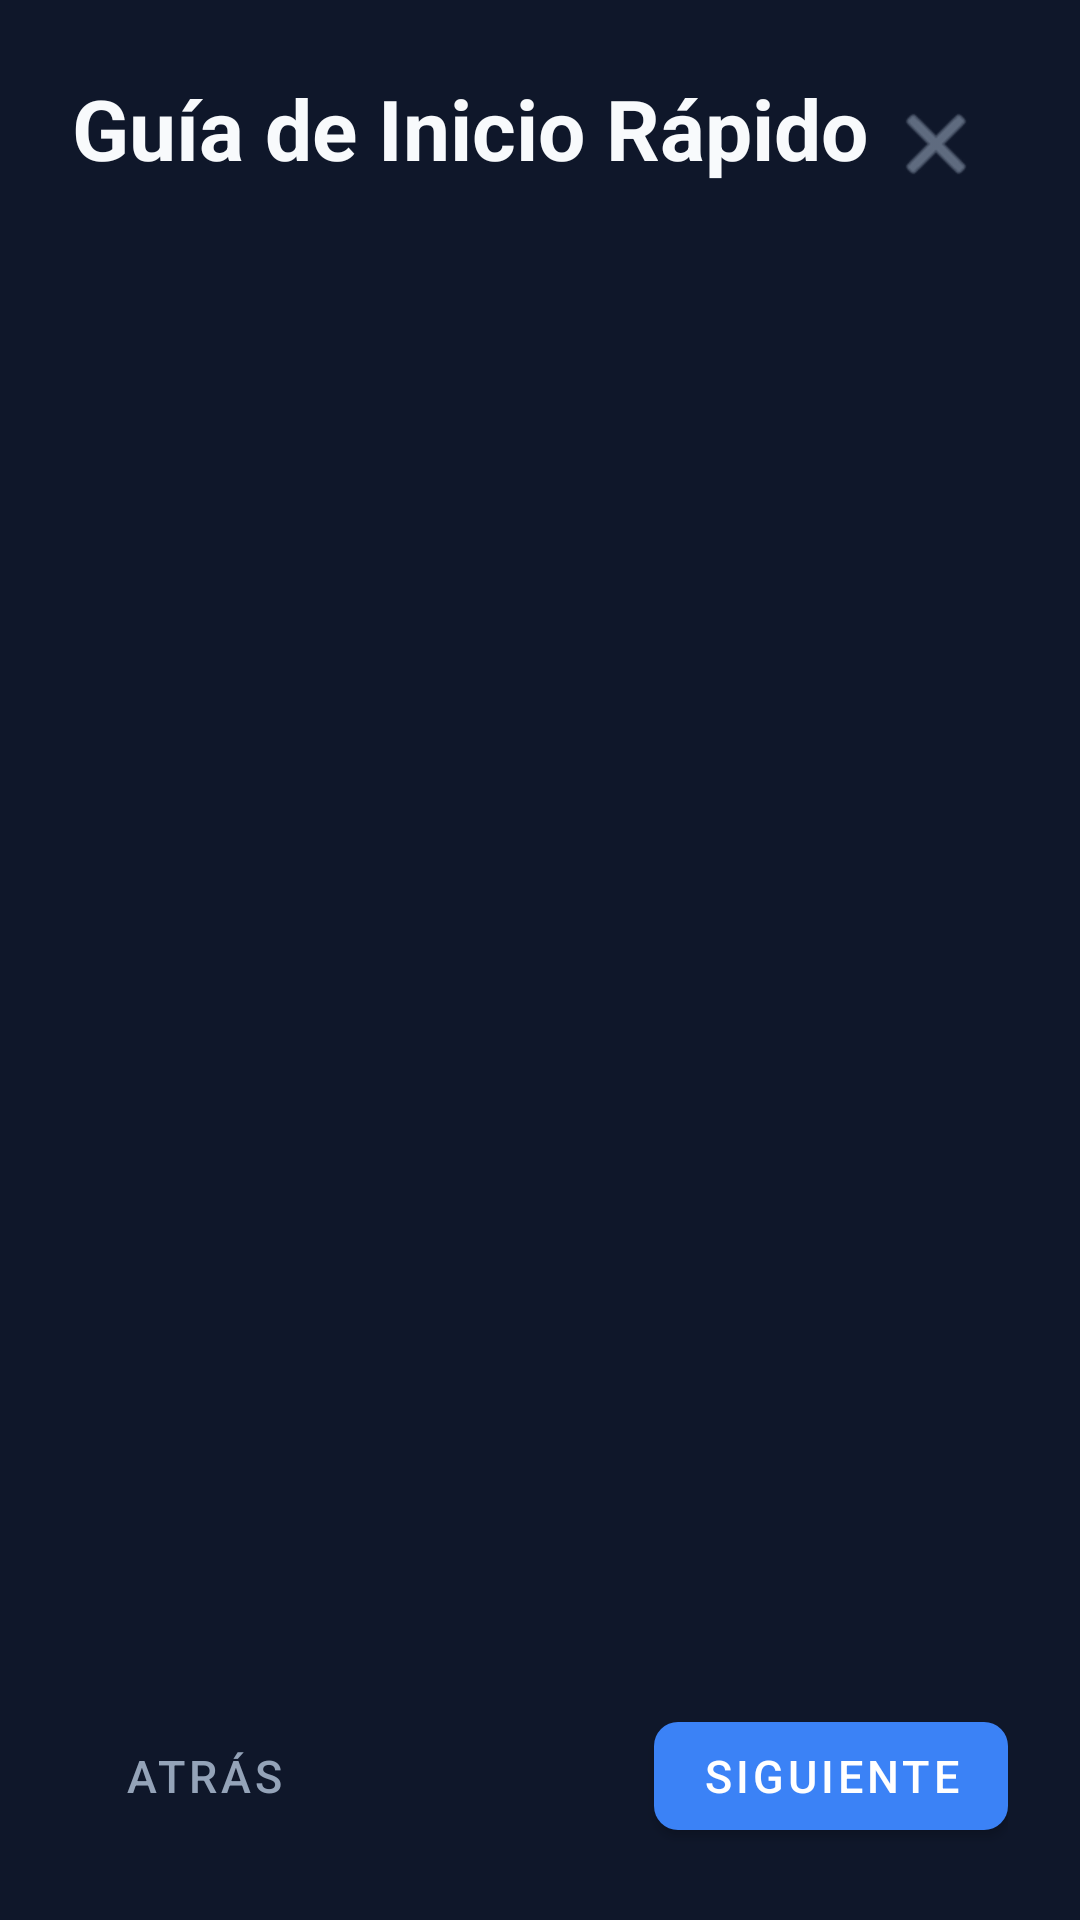

Icons on this 1080*1920 Android screen, each with the point to tap as (x,y):
Cerrar: (936,144)
